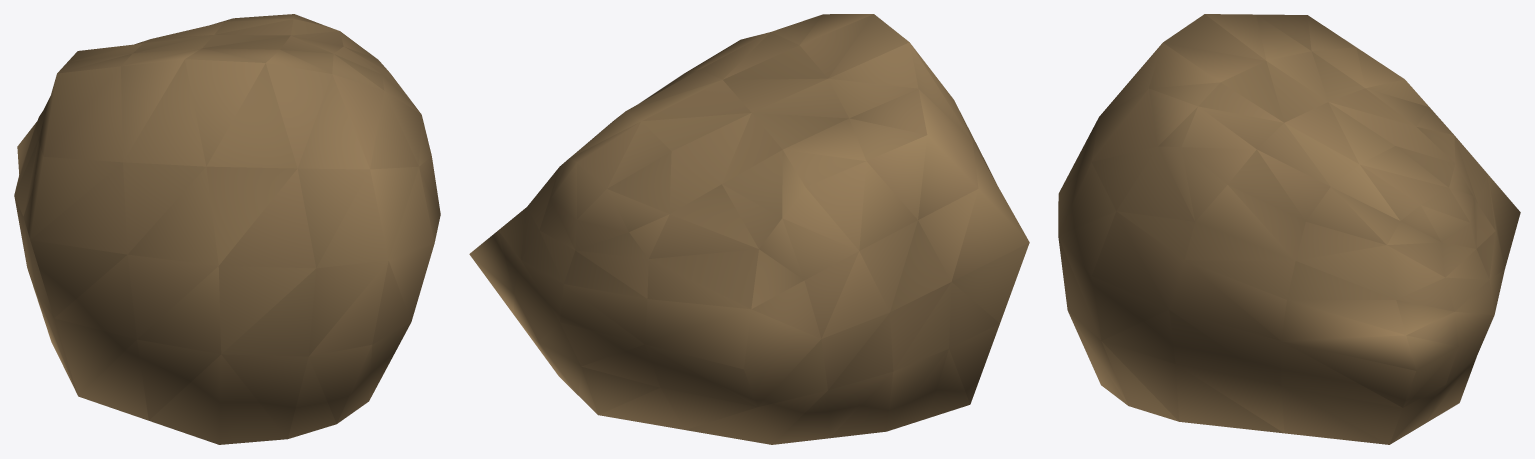
Rendered from SandChunk.009.glb.
The picture shows the model from 3 angles, left to right: view 1: azimuth 30°, elevation 25°; view 2: azimuth 150°, elevation 25°; view 3: azimuth 270°, elevation 25°; orthographic projection. The views are drawn at different scales.
Parts seen in each view (by area): view 1: SandChunk.009; view 2: SandChunk.009; view 3: SandChunk.009.
Part boxes in pixels (box(x1,y1,x2,y2)): SandChunk.009: box(14, 14, 440, 444); SandChunk.009: box(469, 14, 1029, 444); SandChunk.009: box(1058, 14, 1520, 444).
Bounding box in the file's own units: 7.41 × 5.19 × 6.65.
